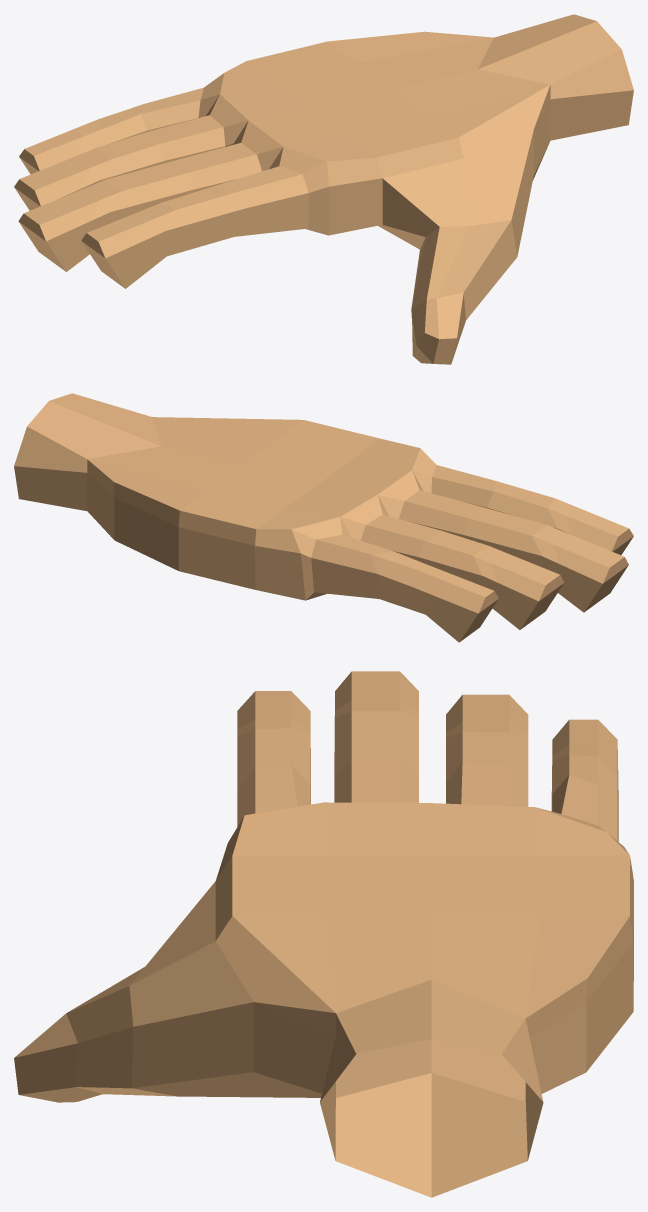
File: manoderecha.fbx
3 renders of one model, top to bottom at view 1: azimuth 30°, elevation 25°; view 2: azimuth 150°, elevation 25°; view 3: azimuth 270°, elevation 25°, orthographic. The views are drawn at different scales.
Parts seen in each view (by area): view 1: ExploradorCuerpo.001; view 2: ExploradorCuerpo.001; view 3: ExploradorCuerpo.001.
Boxes of the visible parts, x1,y1,x2,y2 form: ExploradorCuerpo.001: (14,14,633,364); ExploradorCuerpo.001: (14,393,633,642); ExploradorCuerpo.001: (14,671,633,1197).
Size of the model in its own units: 89.64 by 27.1 by 54.45.
